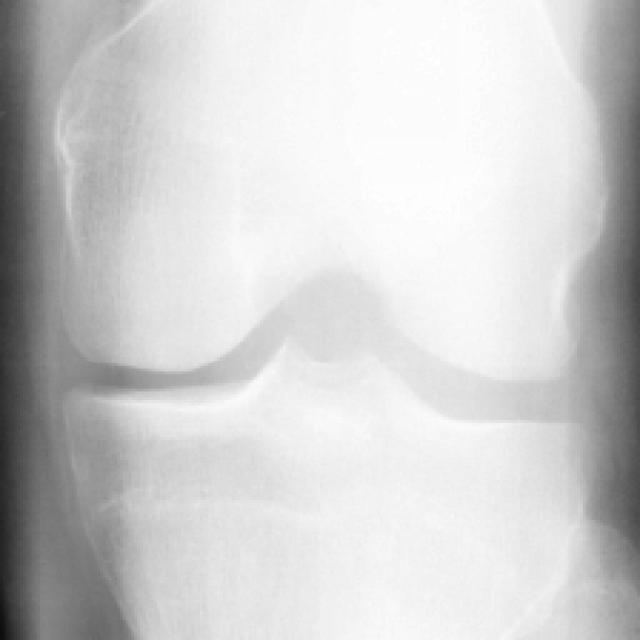femur: (54, 1, 607, 384)
tibia: (59, 343, 580, 640)
